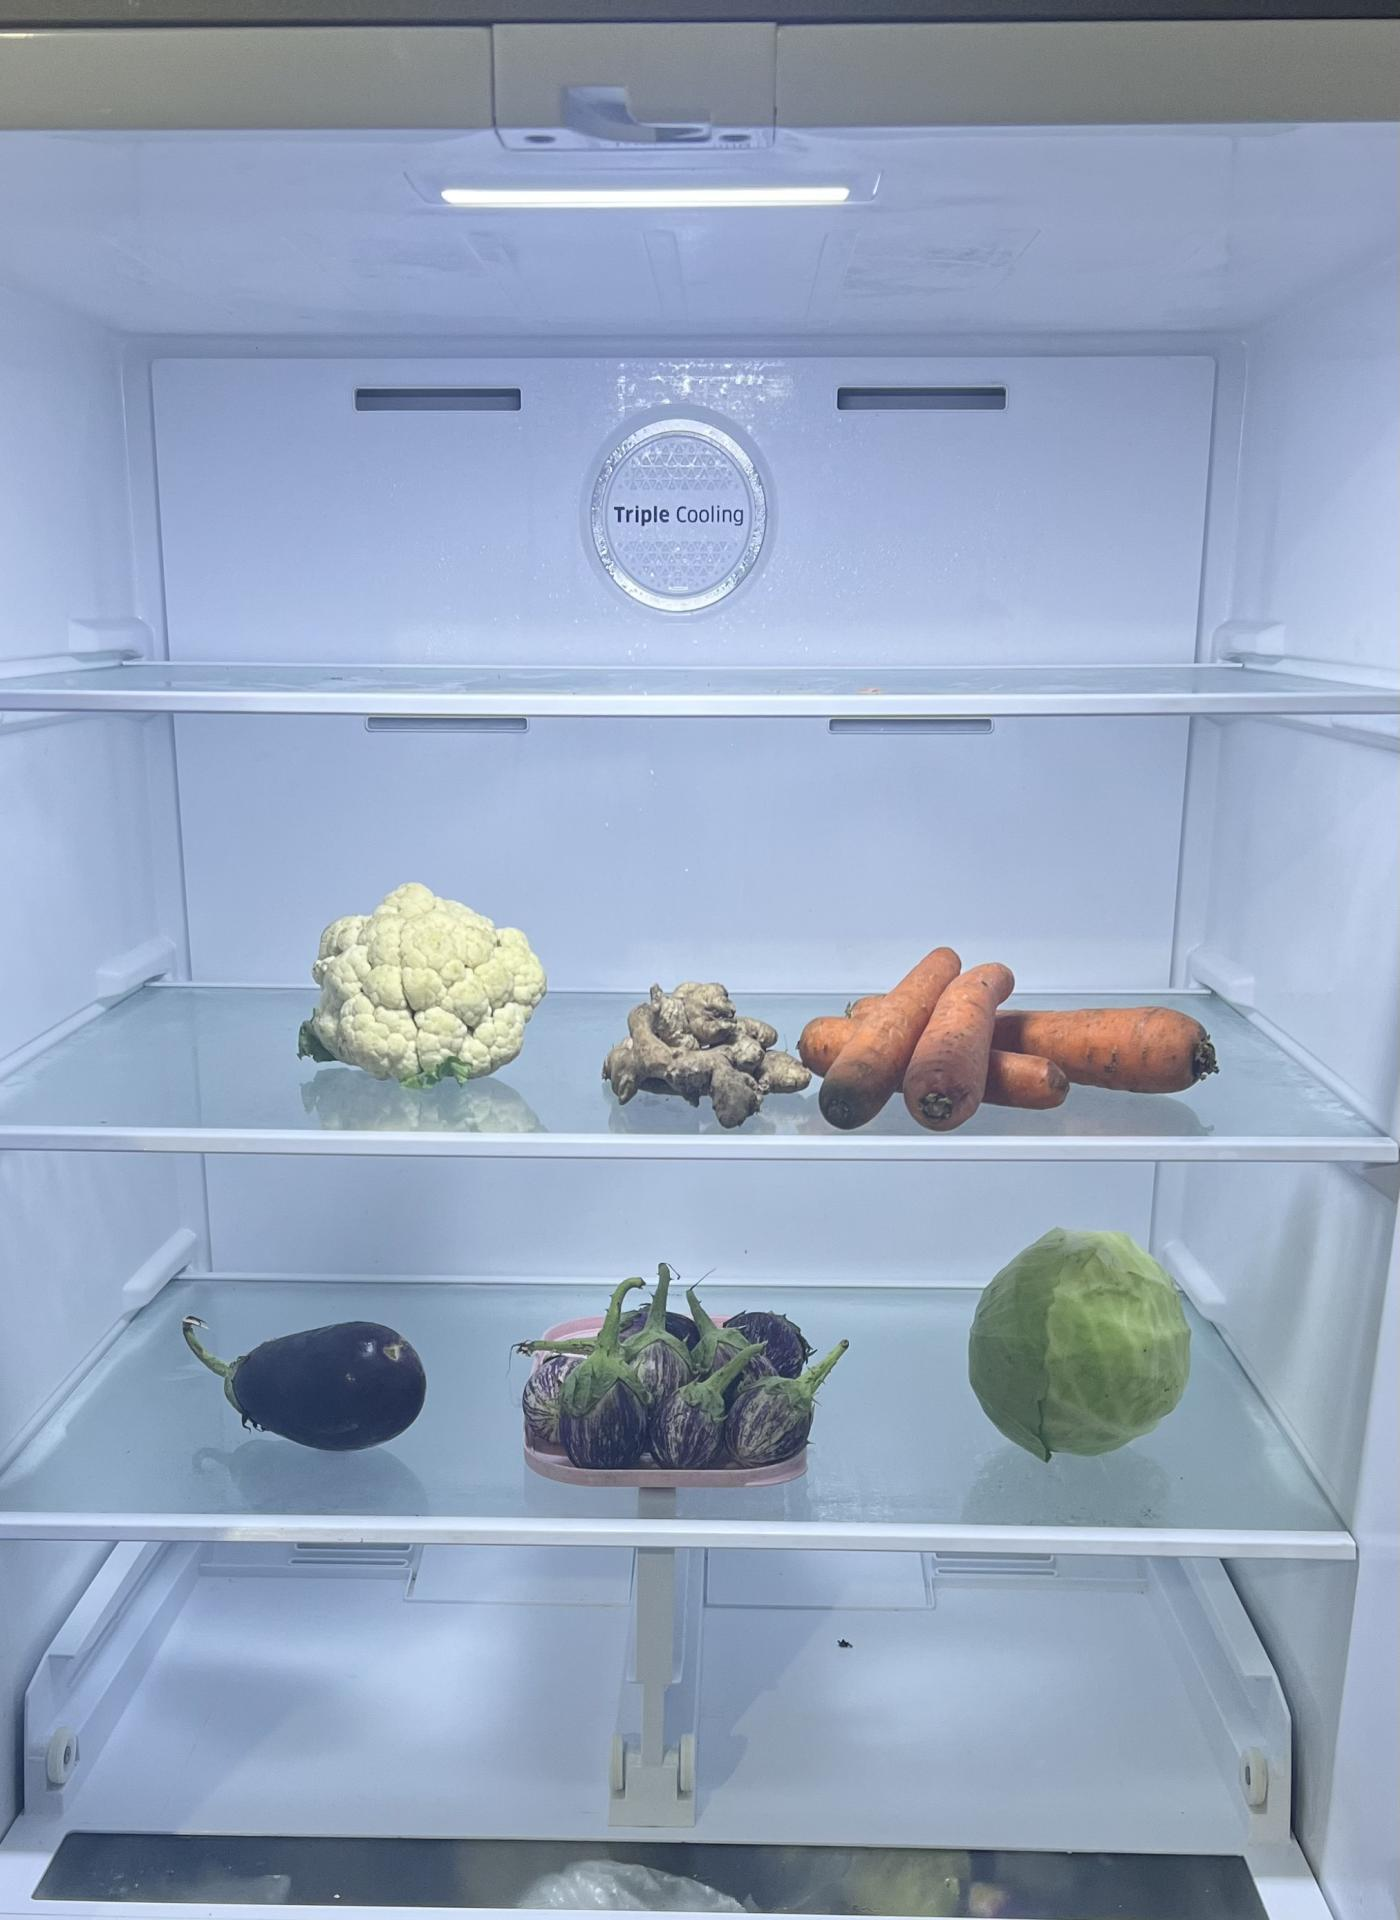brinjal: (495, 1280, 811, 1479), (198, 1309, 423, 1456)
cabbage: (965, 1222, 1191, 1456)
carrots: (801, 948, 1215, 1133)
cauliflower: (310, 888, 553, 1093)
ginger: (601, 978, 808, 1125)
